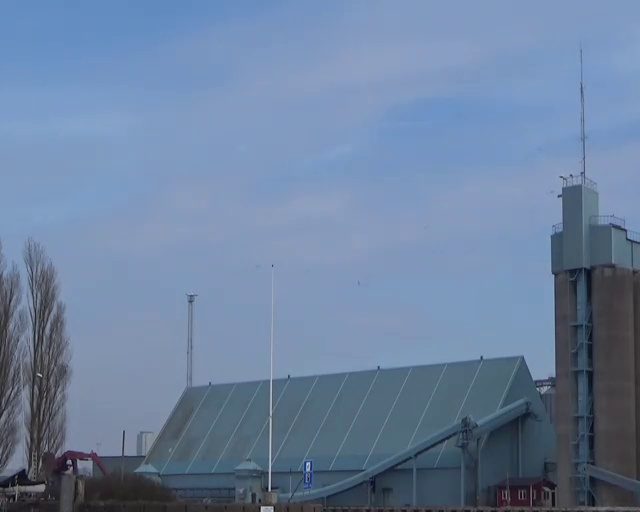BIRD: (354, 277, 365, 290)
